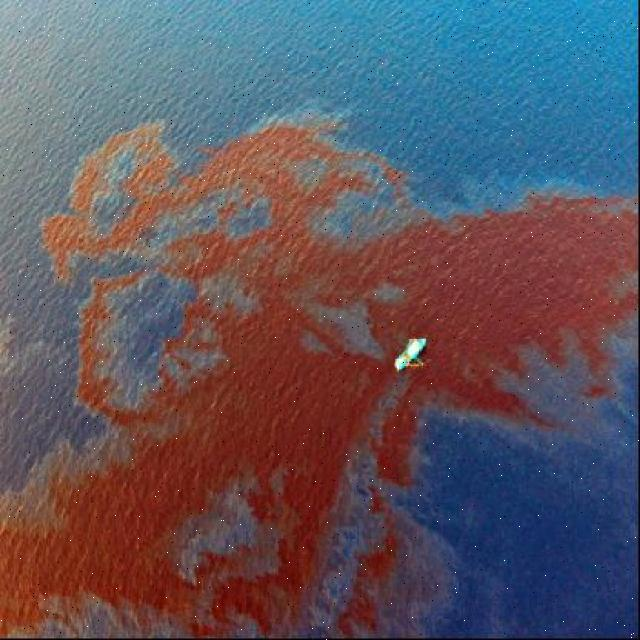truecolor: (0, 124, 637, 637)
